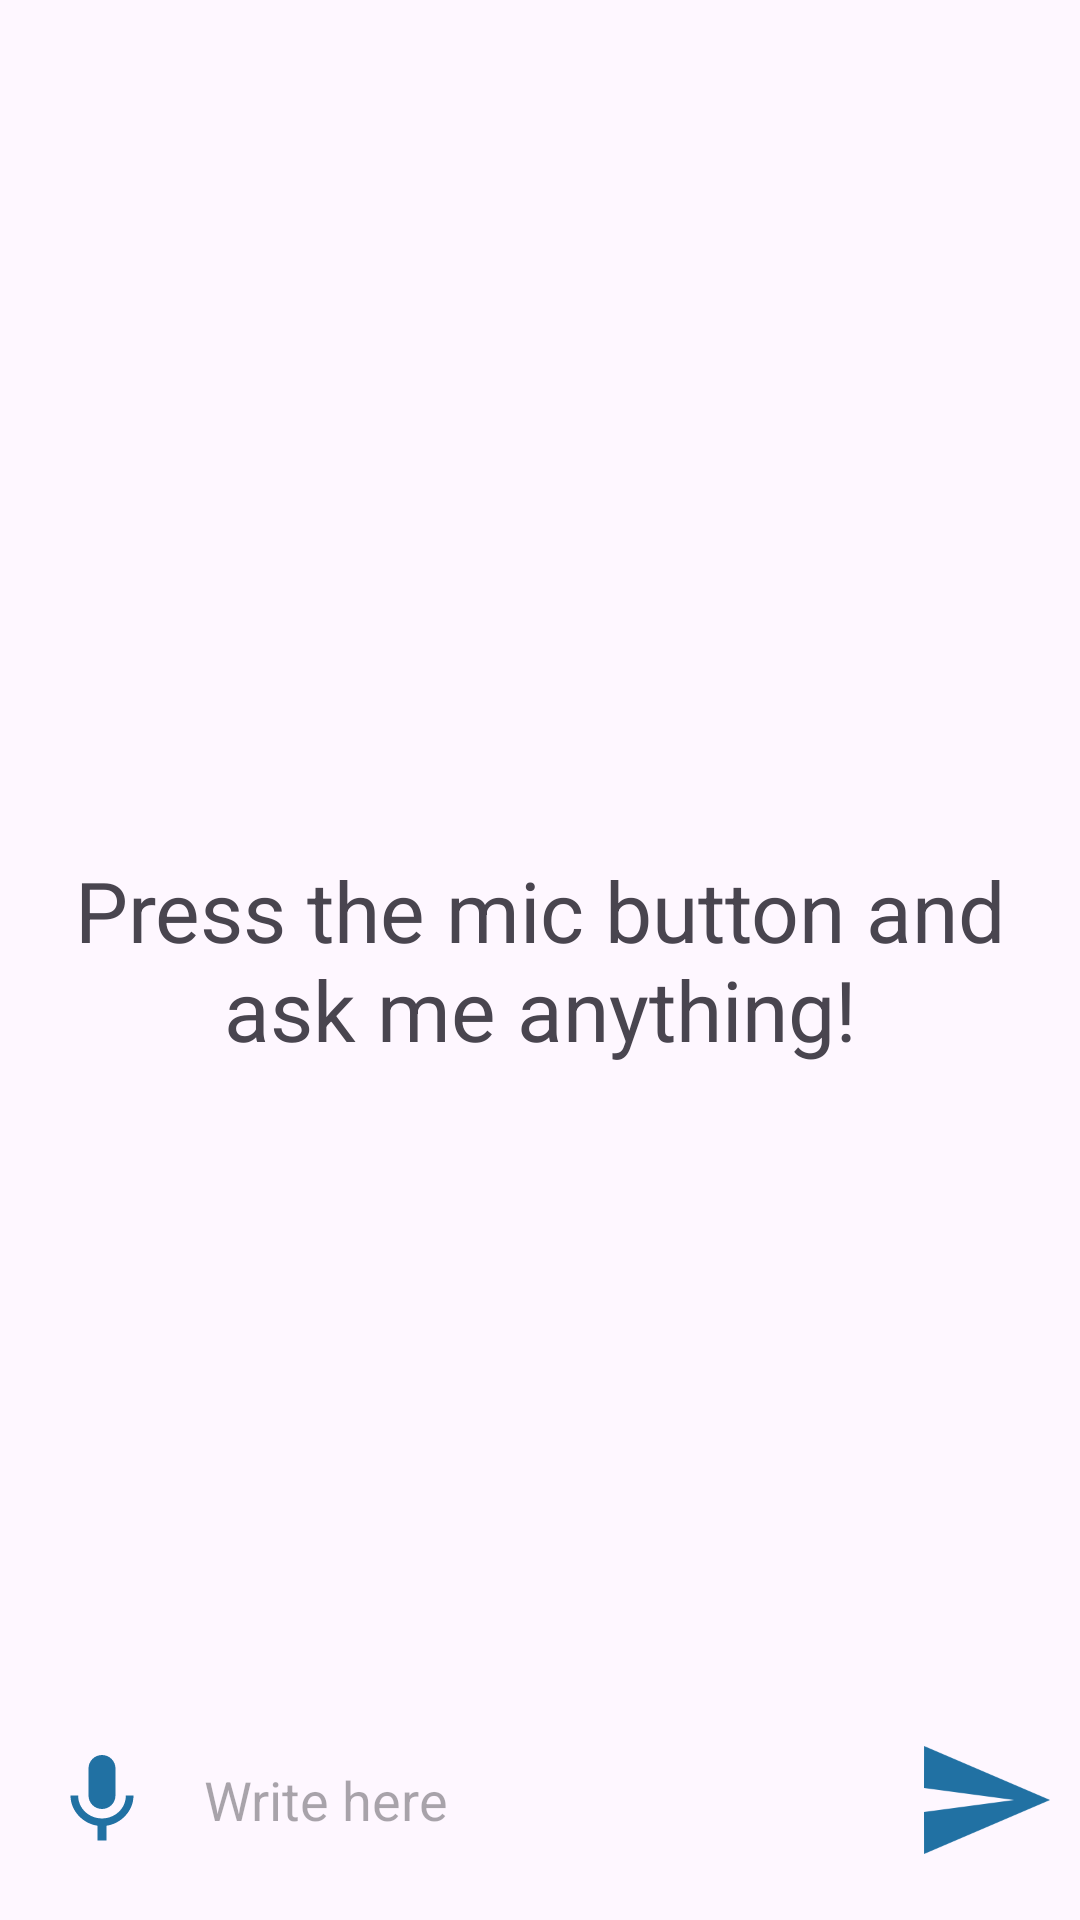

Point at icon controls on the screen. Image size 1080×1920, points as point (x, y).
mic: point (102, 1798)
send: point (987, 1800)
